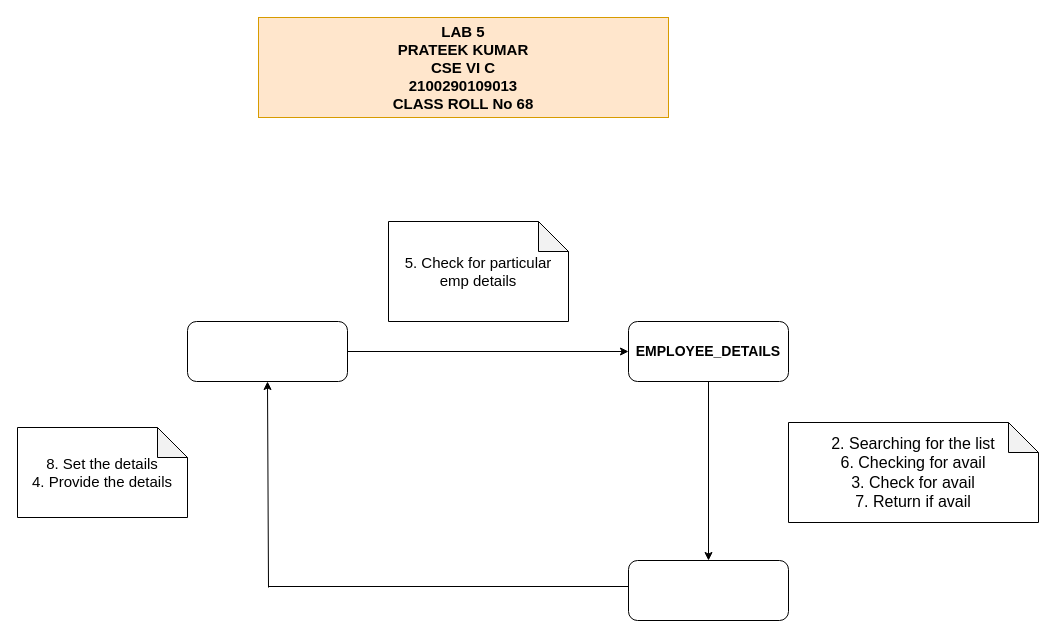
Some shapes in this 1056 by 638 pixel diagram are drawn without their labels. The box of each missing label's shape, as (x1, y1, x2, y2) in pixels:
CEO: (186, 320, 348, 382)
DATABASE: (628, 560, 788, 620)
